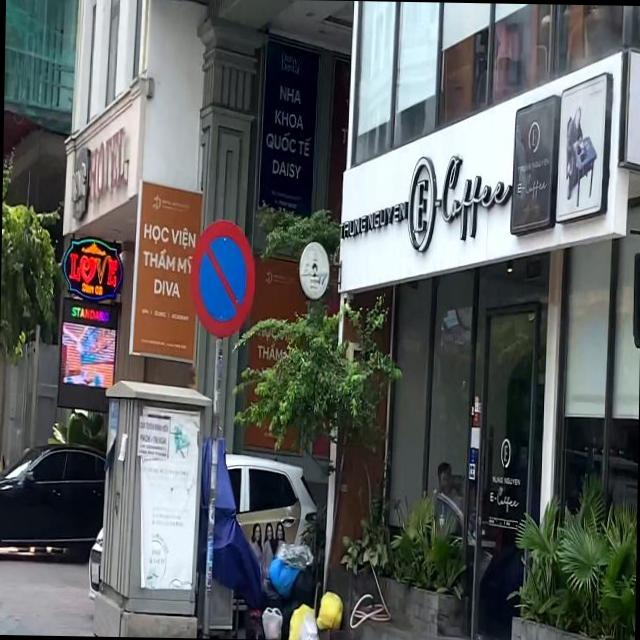P-131a: (188, 218, 254, 338)
